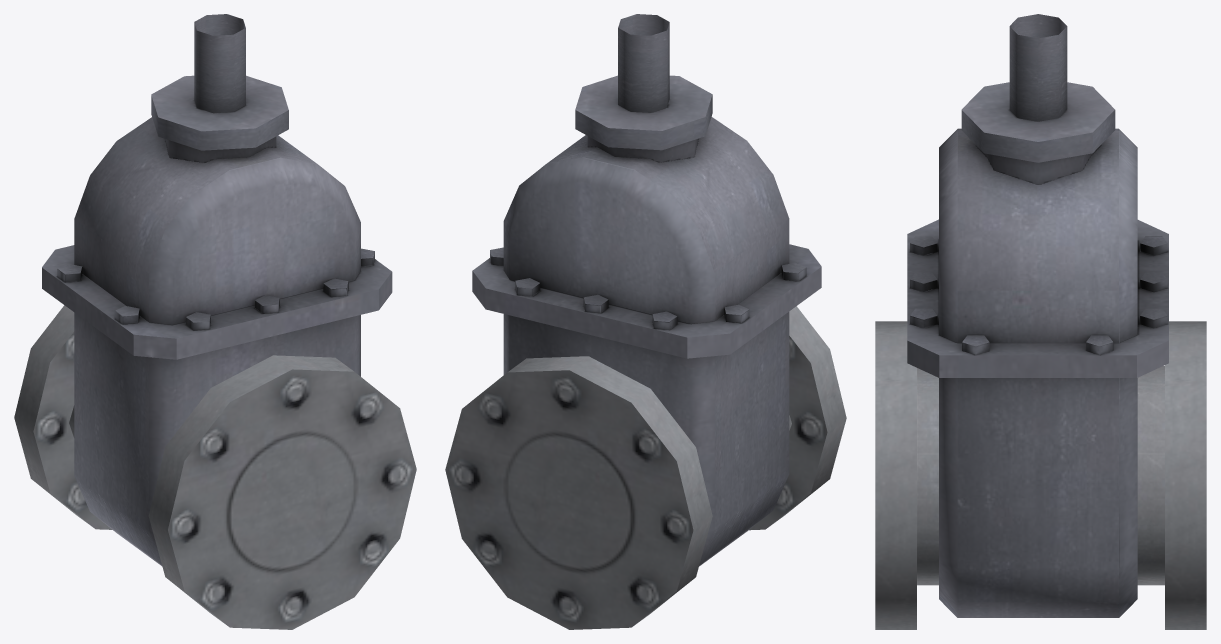
File: valve_01_pipe.FBX
3 renders of one model, left to right at view 1: azimuth 30°, elevation 25°; view 2: azimuth 150°, elevation 25°; view 3: azimuth 270°, elevation 25°, orthographic. The views are drawn at different scales.
Visible parts, largest first — view 1: Box001; view 2: Box001; view 3: Box001.
Boxes of the visible parts, x1,y1,x2,y2 form: Box001: (14, 14, 416, 629); Box001: (445, 14, 846, 629); Box001: (875, 14, 1206, 629).
Bounding box in the file's own units: 31.13 × 63.15 × 32.04.
